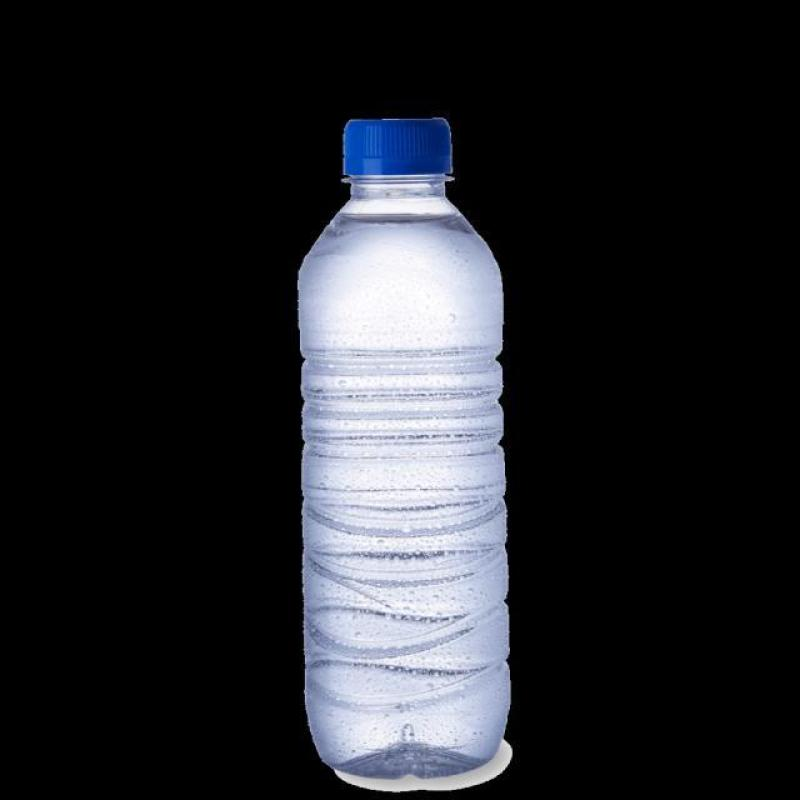botella: (296, 118, 512, 780)
